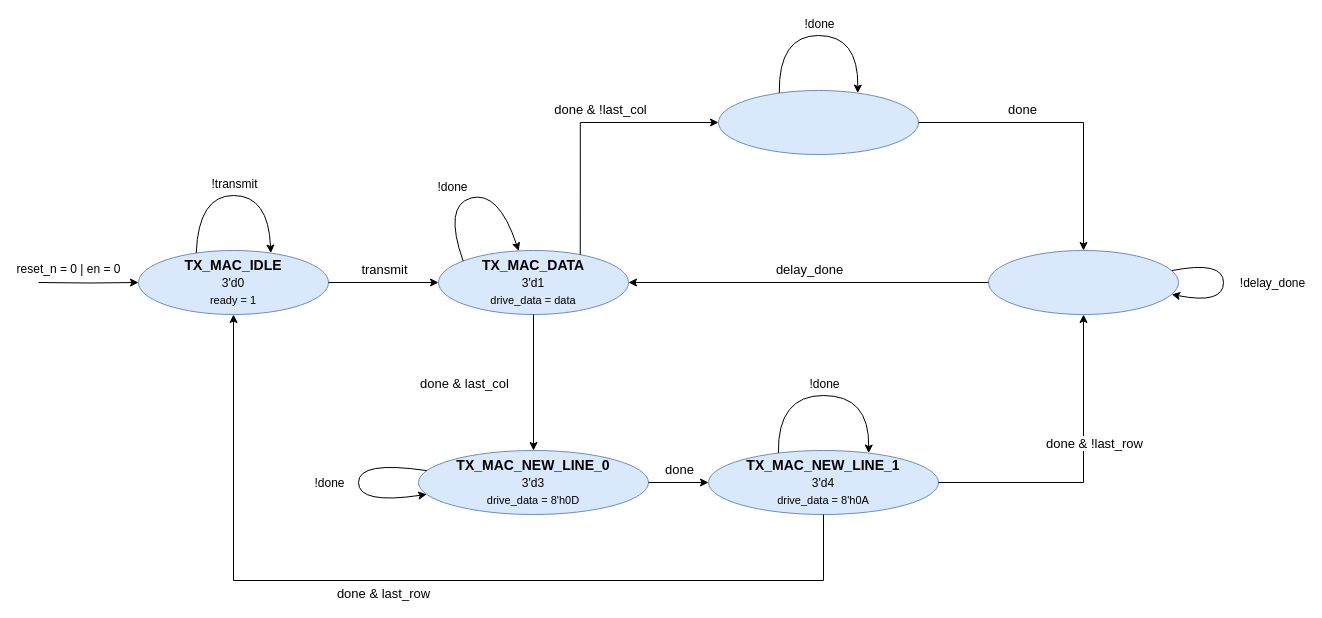
The diagram is 1322 pixels wide and 618 high, and some of its shapes have lost their labels. The shapes that lost their labels are listed below. From the top down, each one's centre as x and y in pixels, then its label:
point (818, 122): TX_MAC_SPACE 3'd2 drive_data = 8'h20
point (1083, 282): TX_MAC_DELAY 3'd5 delay_cnt counts
